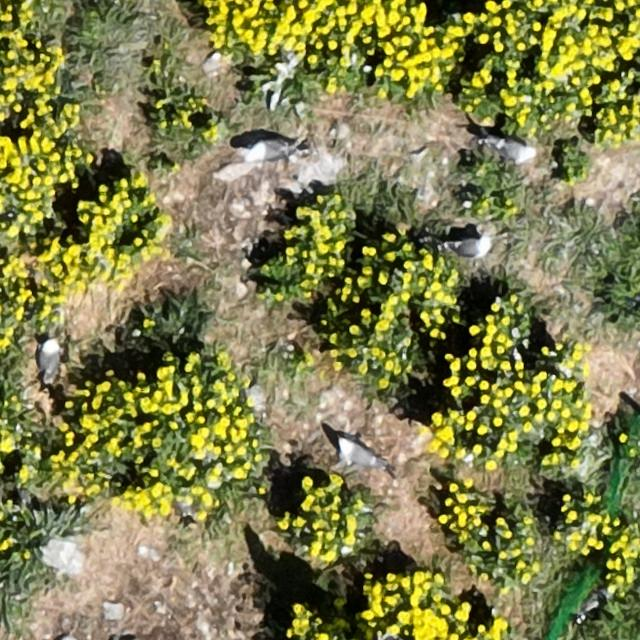umineko: (338, 434, 380, 472), (494, 138, 534, 160), (40, 338, 60, 378), (248, 139, 288, 159), (452, 238, 491, 256)
